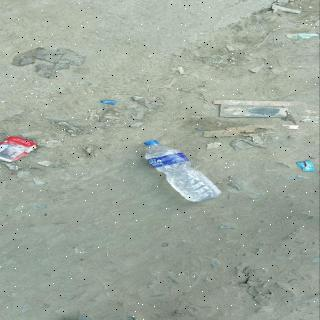Plastic-bottle: (141, 139, 226, 203)
